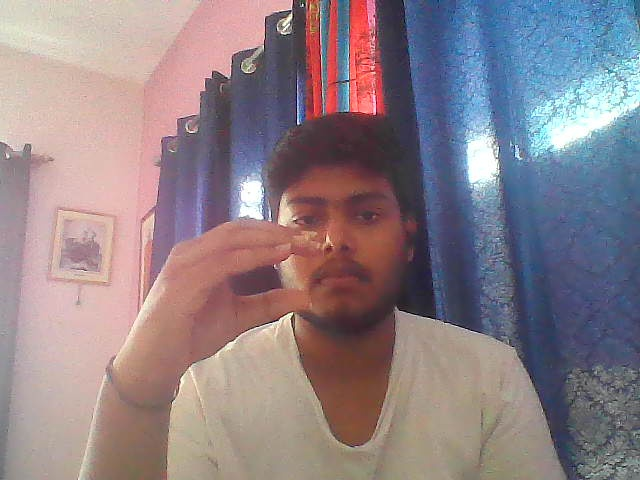No: (134, 212, 327, 372)
